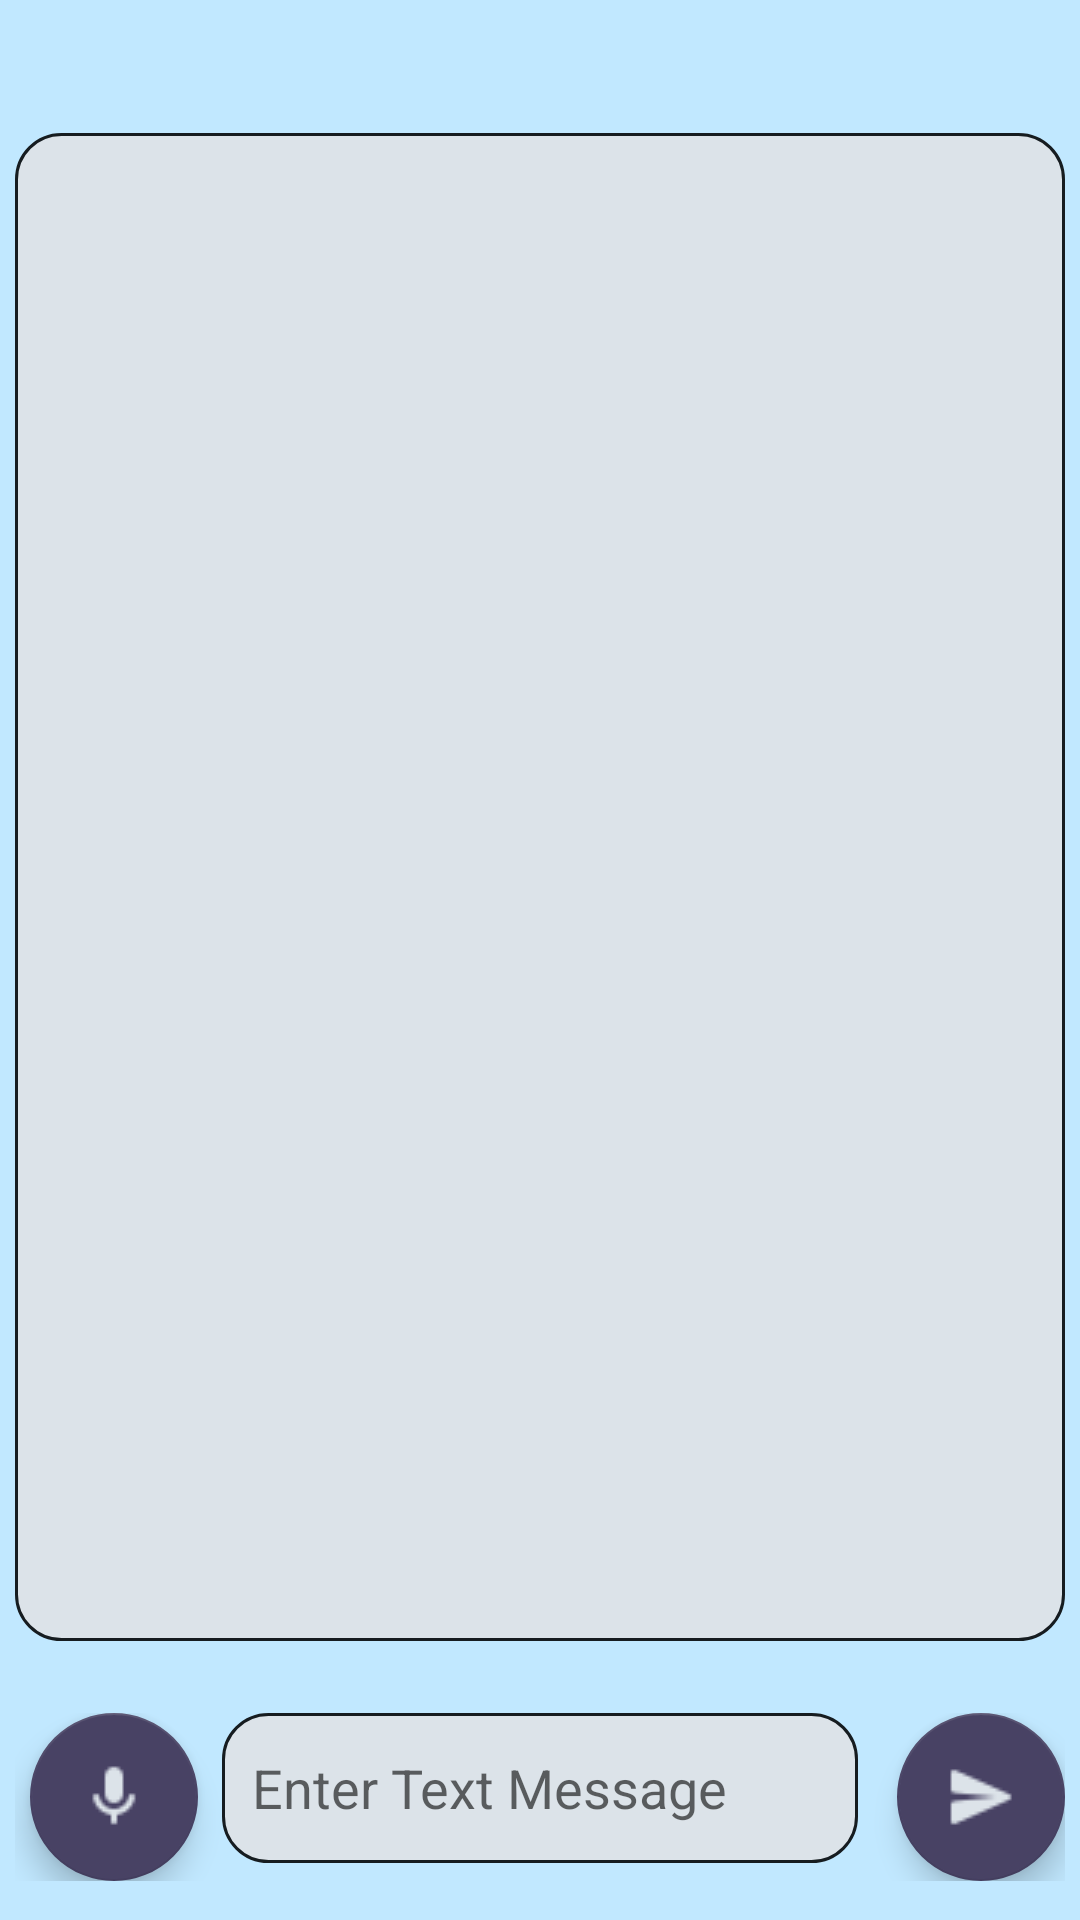

Where icons sit on this 1080×1920 app screen, as Rect(x1, y1, x2, y2):
Press for Voice Input: Rect(30, 1713, 198, 1881)
Send: Rect(897, 1713, 1065, 1881)
